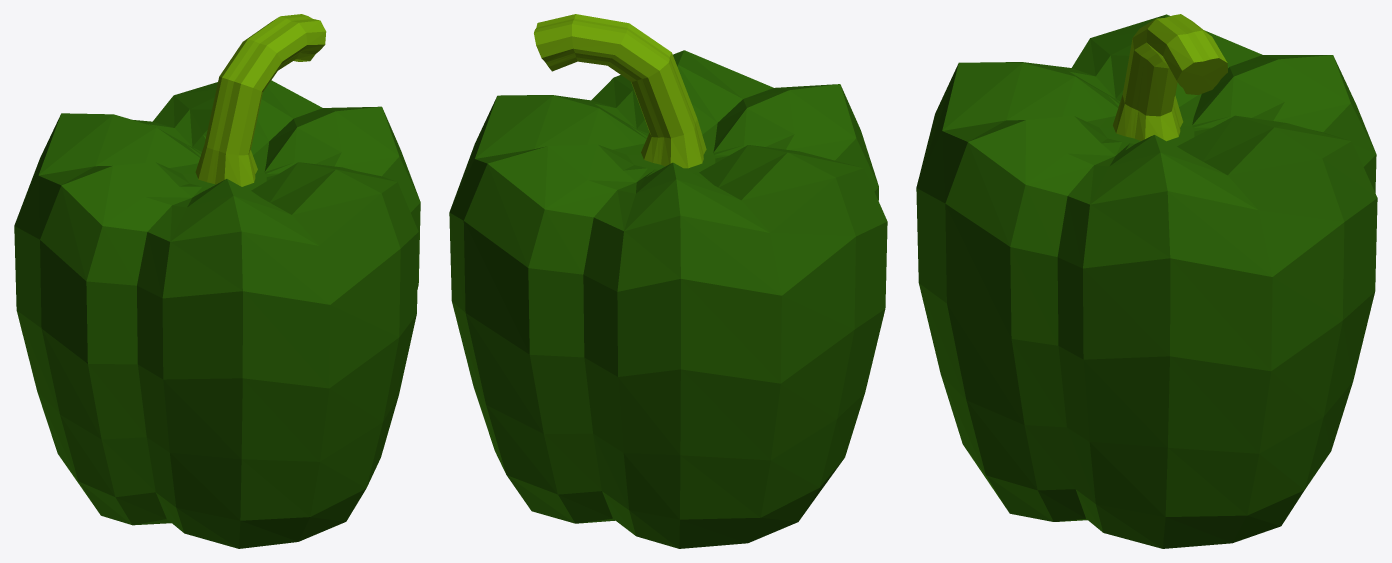
The model's file is bell.glb.
The picture shows the model from 3 angles, left to right: view 1: azimuth 30°, elevation 25°; view 2: azimuth 150°, elevation 25°; view 3: azimuth 270°, elevation 25°; orthographic projection. The views are drawn at different scales.
Parts seen in each view (by area): view 1: node-0; view 2: node-0; view 3: node-0.
Boxes of the visible parts, bbox=[...] form: node-0: bbox=[14, 14, 420, 548]; node-0: bbox=[449, 14, 887, 548]; node-0: bbox=[916, 14, 1377, 548].
Bounding box in the file's own units: 2.45 × 2.91 × 2.4.
